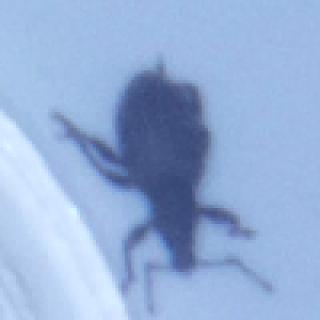bvw: (51, 55, 274, 316)
